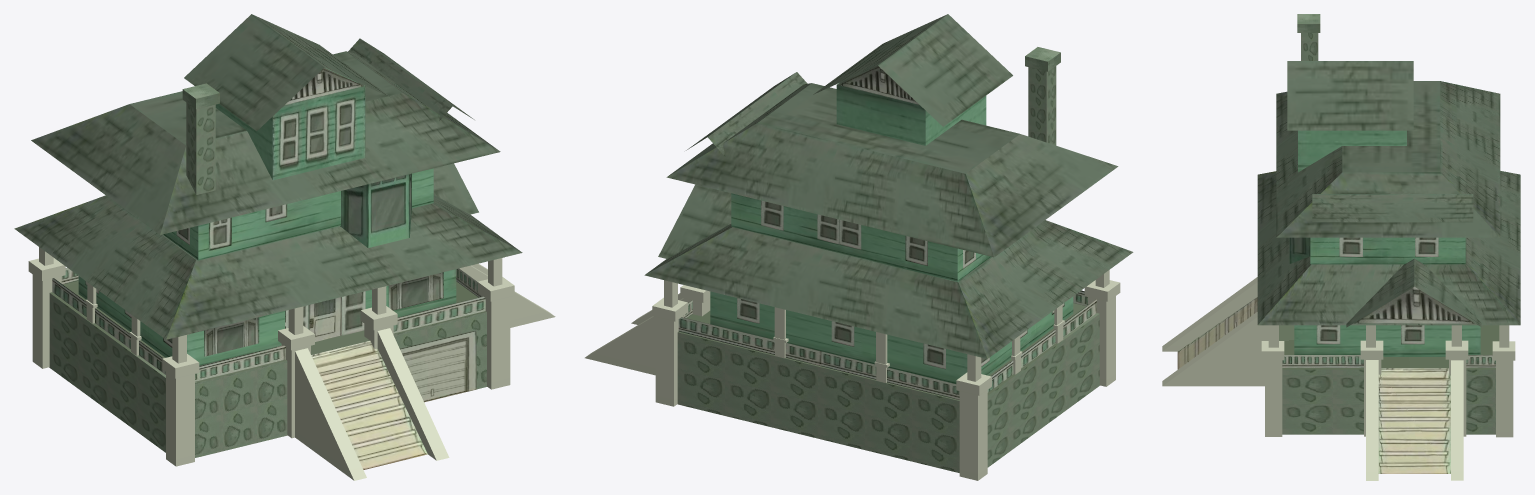
File: CasaParque.obj
3 renders of one model, left to right at view 1: azimuth 30°, elevation 25°; view 2: azimuth 150°, elevation 25°; view 3: azimuth 270°, elevation 25°, orthographic. The views are drawn at different scales.
Parts seen in each view (by area): view 1: Cube_002, Cube_004, Cube, Cube_006, Cube_010, Cube_005, Cube_001, Cube_003, Cube_012, Cube_007, Cube_071, Cube_011 (+21 smaller); view 2: Cube_004, Cube_002, Cube, Cube_006, Cube_001, Cube_003, Cube_005, Cube_058, Cube_008, Cube_030, Cube_014, Cube_016 (+7 smaller); view 3: Cube_004, Cube_002, Cube, Cube_006, Cube_013, Cube_008, Cube_009, Cube_011, Cube_001, Cube_003, Cube_005, Cube_012 (+17 smaller).
Boxes of the visible parts, <box> form: Cube_002: <box>14,195,522,339</box>; Cube_004: <box>31,51,500,234</box>; Cube: <box>49,280,486,457</box>; Cube_006: <box>184,14,391,131</box>; Cube_010: <box>311,341,427,469</box>; Cube_005: <box>215,85,365,180</box>; Cube_001: <box>52,269,456,374</box>; Cube_003: <box>163,168,433,260</box>; Cube_012: <box>295,348,366,480</box>; Cube_007: <box>340,173,411,247</box>; Cube_071: <box>400,330,476,402</box>; Cube_011: <box>377,328,449,460</box>; Cube_004: <box>666,83,1118,257</box>; Cube_002: <box>644,220,1133,358</box>; Cube: <box>677,303,1099,472</box>; Cube_006: <box>813,14,1012,126</box>; Cube_001: <box>710,291,1096,392</box>; Cube_003: <box>731,193,991,281</box>; Cube_005: <box>836,83,986,145</box>; Cube_058: <box>678,317,959,399</box>; Cube_008: <box>658,184,731,258</box>; Cube_030: <box>959,390,987,480</box>; Cube_014: <box>585,298,683,375</box>; Cube_016: <box>1028,66,1056,145</box>; Cube_004: <box>1276,81,1500,237</box>; Cube_002: <box>1257,171,1520,325</box>; Cube: <box>1279,325,1499,434</box>; Cube_006: <box>1287,61,1413,130</box>; Cube_013: <box>1378,368,1450,473</box>; Cube_008: <box>1346,258,1482,327</box>; Cube_009: <box>1312,194,1473,222</box>; Cube_011: <box>1162,312,1264,386</box>; Cube_001: <box>1294,325,1480,356</box>; Cube_003: <box>1310,237,1465,264</box>; Cube_005: <box>1298,130,1406,172</box>; Cube_012: <box>1162,277,1257,351</box>.
Size of the model in its own units: 18.95 by 14.04 by 15.02.
